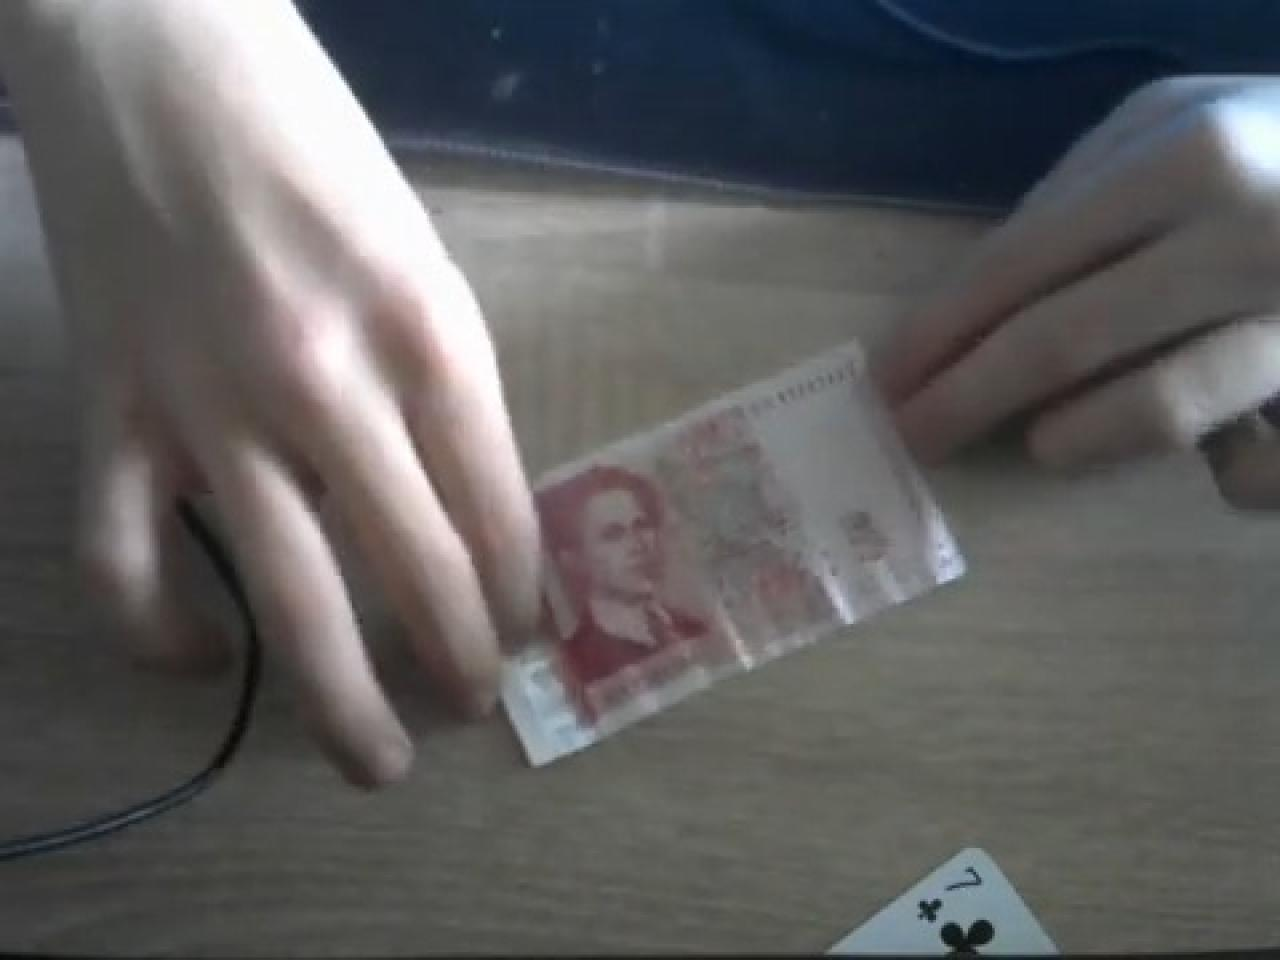5leva: (501, 344, 968, 768)
